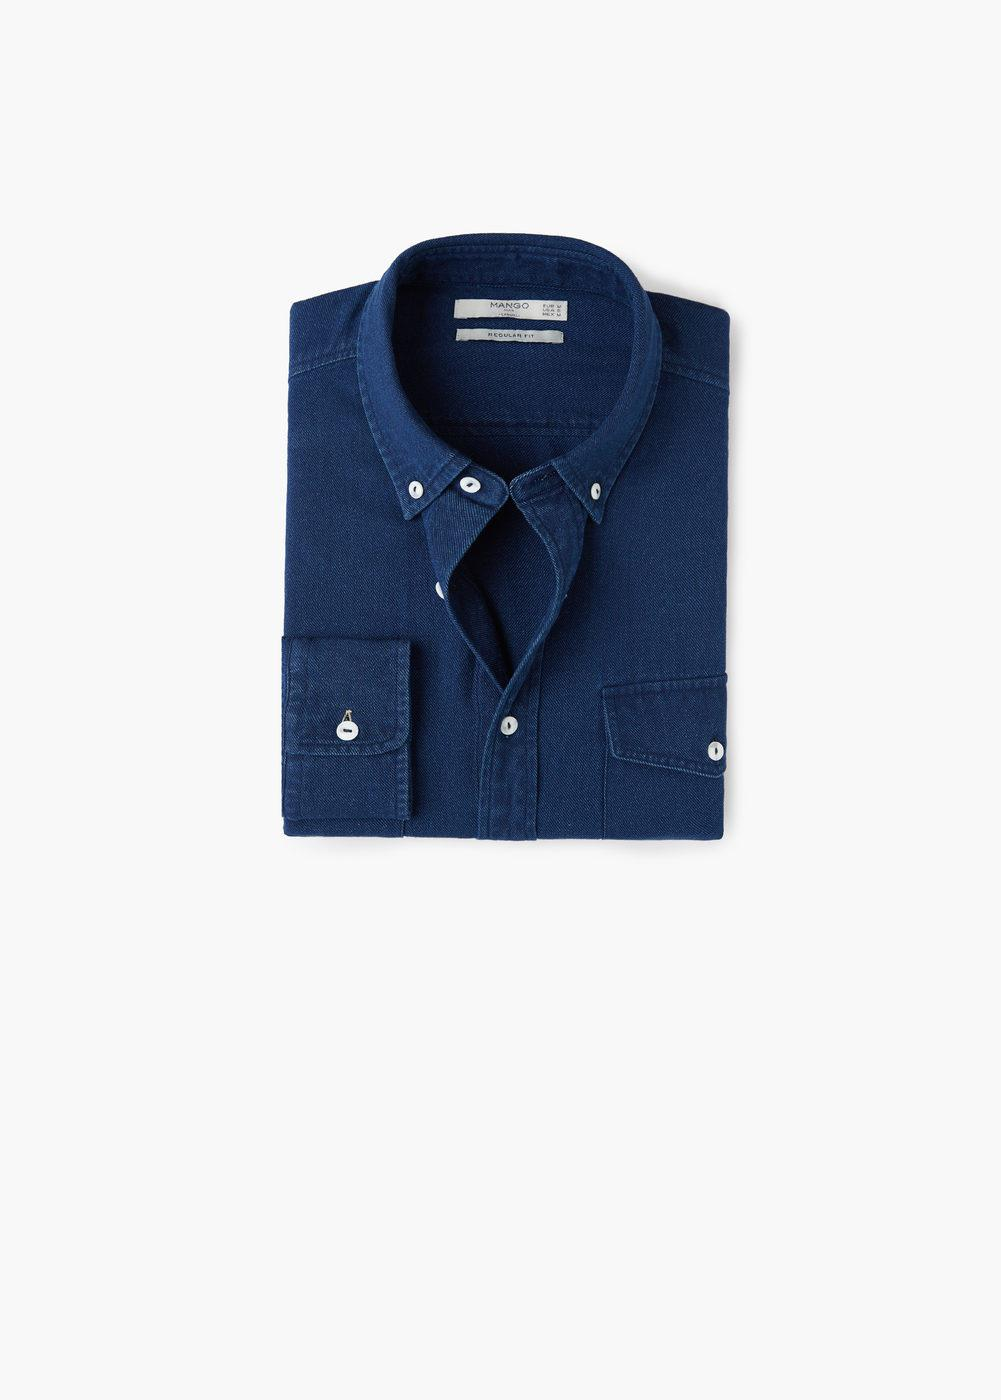teeshirt: (253, 225, 757, 895)
